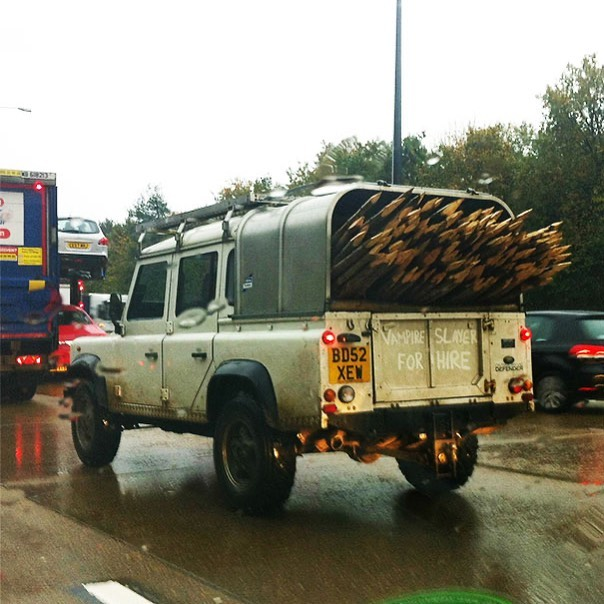car: (42, 212, 112, 278)
sky: (1, 1, 579, 170)
street: (7, 399, 604, 604)
truck: (51, 179, 562, 526)
